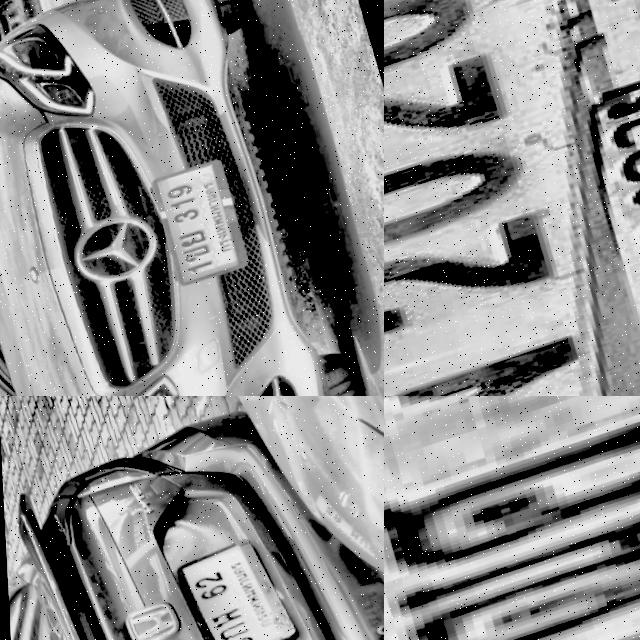license-plate: (384, 0, 640, 396), (384, 396, 640, 640), (145, 166, 247, 300), (171, 537, 295, 640)
